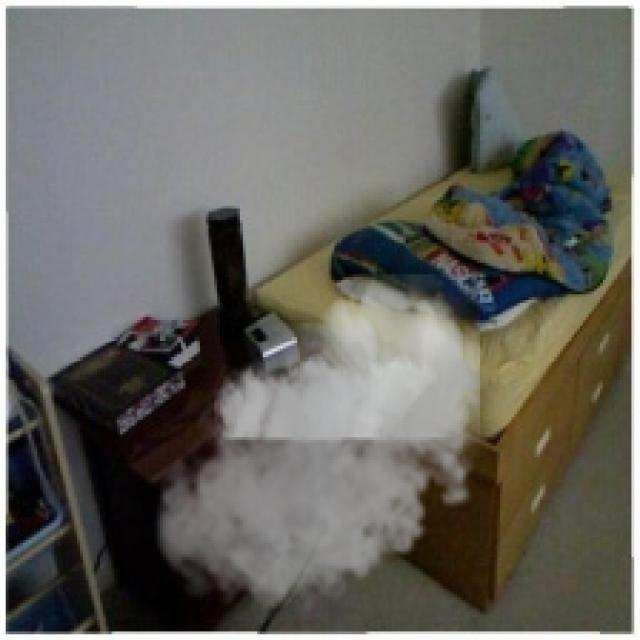smoke: (149, 274, 494, 623)
